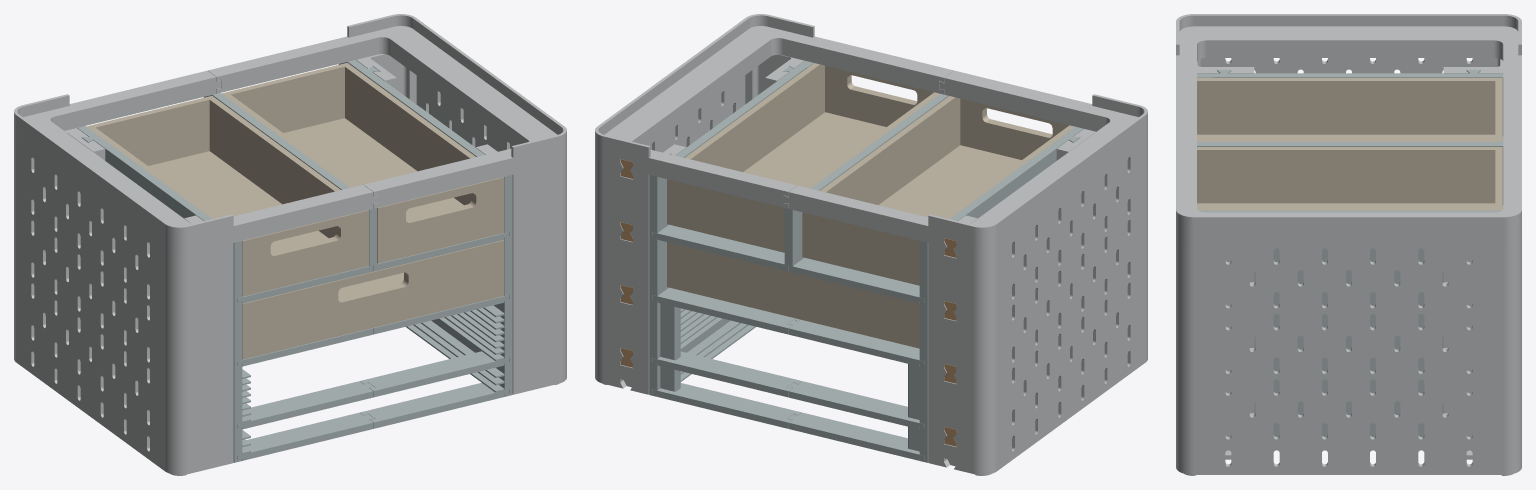
File: stacknest-no-ht-pegboard.glb
3 views of the same model, side by side, from view 1: azimuth 30°, elevation 25°; view 2: azimuth 150°, elevation 25°; view 3: azimuth 270°, elevation 25° (orthographic). The views are drawn at different scales.
Parts seen in each view (by area): view 1: 2-drawer-layer__drawer_2, 2-drawer-layer__drawer_1, device-top__top_2, device-top__top_1, 1-drawer-layer__drawer_half_1, 2-drawer-layer__end_left_1, 1-drawer-layer__end_left_1, 8-slot-plate-layer__end_left, 2-drawer-layer__end_right_1, 3-slot-plate-layer__end_left, 1-drawer-layer__end_right_1, 8-slot-plate-layer__end_right (+16 smaller); view 2: 2-drawer-layer__drawer_2, 2-drawer-layer__drawer_1, device-top__top_2, device-top__top_1, 2-drawer-layer__end_left_1, 8-slot-plate-layer__end_left, 1-drawer-layer__end_left_1, 1-drawer-layer__drawer_half_2, 2-drawer-layer__end_right_1, 3-slot-plate-layer__end_left, 1-drawer-layer__end_right_1, 8-slot-plate-layer__end_right (+17 smaller); view 3: 8-slot-plate-layer__end_right, 2-drawer-layer__end_right_1, 1-drawer-layer__end_right_1, 2-drawer-layer__drawer_1, 2-drawer-layer__drawer_2, device-top__top_1, device-top__top_2, 3-slot-plate-layer__end_right, 2-drawer-layer__end_left_1, 2-drawer-layer__side_left, 2-drawer-layer__divider_1, 2-drawer-layer__side_right (+3 smaller).
Boxes of the visible parts, x1=… form: 2-drawer-layer__drawer_2: x1=221, y1=62, x2=504, y2=263; 2-drawer-layer__drawer_1: x1=86, y1=96, x2=368, y2=296; device-top__top_2: x1=208, y1=14, x2=566, y2=208; device-top__top_1: x1=14, y1=70, x2=378, y2=254; 1-drawer-layer__drawer_half_1: x1=242, y1=240, x2=504, y2=359; 2-drawer-layer__end_left_1: x1=14, y1=128, x2=233, y2=317; 1-drawer-layer__end_left_1: x1=14, y1=203, x2=233, y2=380; 8-slot-plate-layer__end_left: x1=14, y1=266, x2=233, y2=443; 2-drawer-layer__end_right_1: x1=356, y1=54, x2=566, y2=237; 3-slot-plate-layer__end_left: x1=14, y1=328, x2=233, y2=475; 1-drawer-layer__end_right_1: x1=512, y1=221, x2=566, y2=300; 8-slot-plate-layer__end_right: x1=512, y1=284, x2=566, y2=363; 2-drawer-layer__drawer_2: x1=667, y1=63, x2=939, y2=252; 2-drawer-layer__drawer_1: x1=802, y1=96, x2=1074, y2=285; device-top__top_2: x1=595, y1=14, x2=953, y2=208; device-top__top_1: x1=783, y1=70, x2=1147, y2=254; 2-drawer-layer__end_left_1: x1=928, y1=129, x2=1147, y2=317; 8-slot-plate-layer__end_left: x1=928, y1=266, x2=1147, y2=443; 1-drawer-layer__end_left_1: x1=928, y1=203, x2=1147, y2=380; 1-drawer-layer__drawer_half_2: x1=667, y1=242, x2=919, y2=348; 2-drawer-layer__end_right_1: x1=595, y1=55, x2=804, y2=237; 3-slot-plate-layer__end_left: x1=928, y1=328, x2=1147, y2=475; 1-drawer-layer__end_right_1: x1=595, y1=221, x2=649, y2=300; 8-slot-plate-layer__end_right: x1=595, y1=284, x2=649, y2=363; 8-slot-plate-layer__end_right: x1=1176, y1=361, x2=1521, y2=442; 2-drawer-layer__end_right_1: x1=1176, y1=239, x2=1521, y2=311; 1-drawer-layer__end_right_1: x1=1176, y1=296, x2=1521, y2=376; 2-drawer-layer__drawer_1: x1=1197, y1=78, x2=1502, y2=141; 2-drawer-layer__drawer_2: x1=1197, y1=147, x2=1502, y2=210; device-top__top_1: x1=1176, y1=14, x2=1521, y2=126; device-top__top_2: x1=1176, y1=126, x2=1521, y2=245; 3-slot-plate-layer__end_right: x1=1176, y1=427, x2=1521, y2=475; 2-drawer-layer__end_left_1: x1=1197, y1=58, x2=1503, y2=73; 2-drawer-layer__side_left: x1=1197, y1=70, x2=1503, y2=135; 2-drawer-layer__divider_1: x1=1197, y1=142, x2=1503, y2=204; 2-drawer-layer__side_right: x1=1198, y1=210, x2=1501, y2=280.
Bounding box in the file's own units: 0.399 × 0.239 × 0.287.
